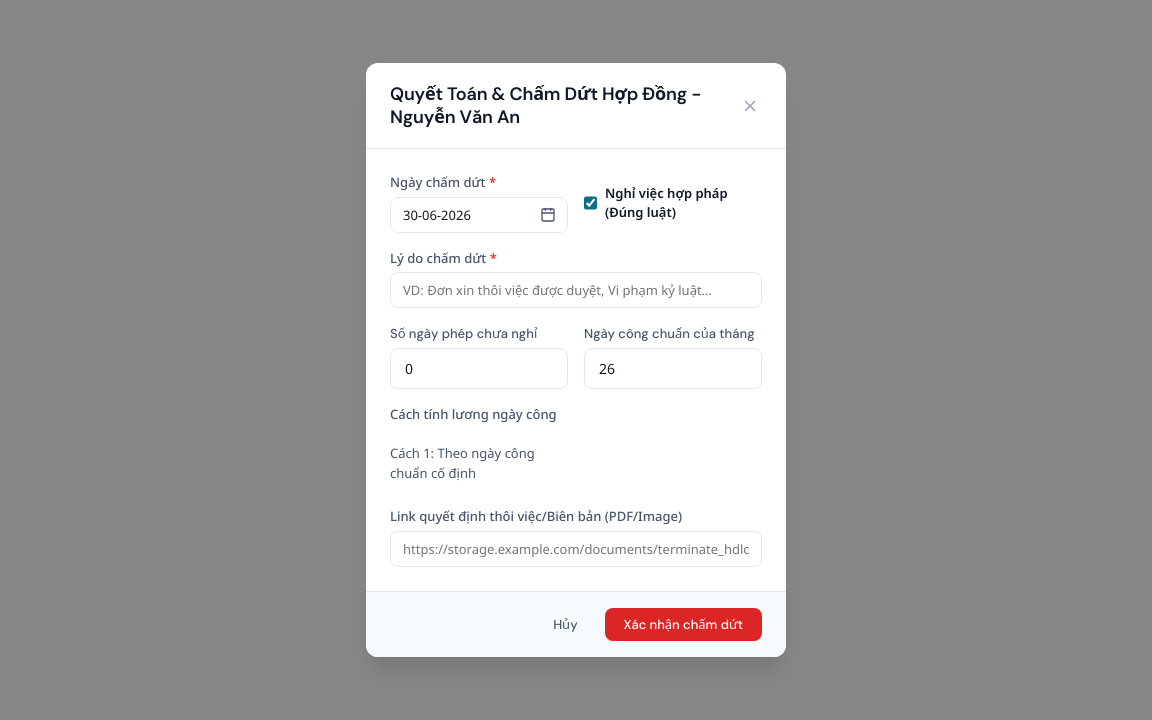
Scenario: TerminateContractModal › validates required fields
# Clear termination_date via hidden input
Clear the field named "termination_date": {"x": 479, "y": 203} [390,173,568,233]
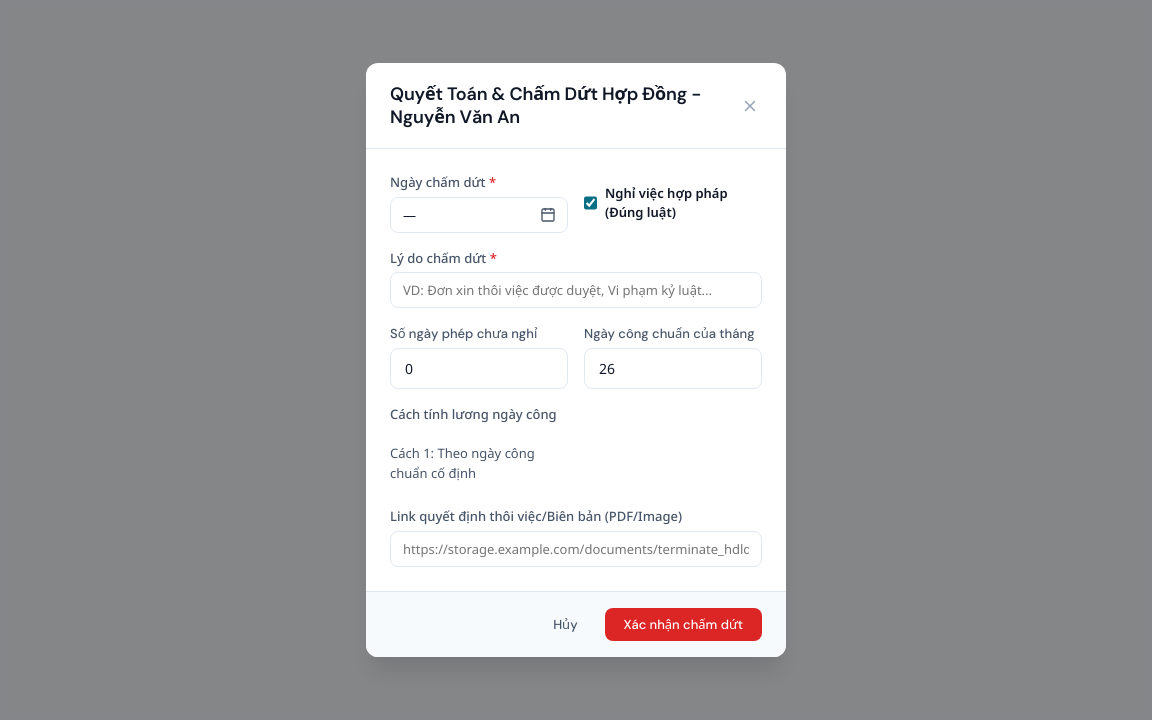
Click the button "Xác nhận chấm dứt": {"x": 683, "y": 624} [605,608,762,641]
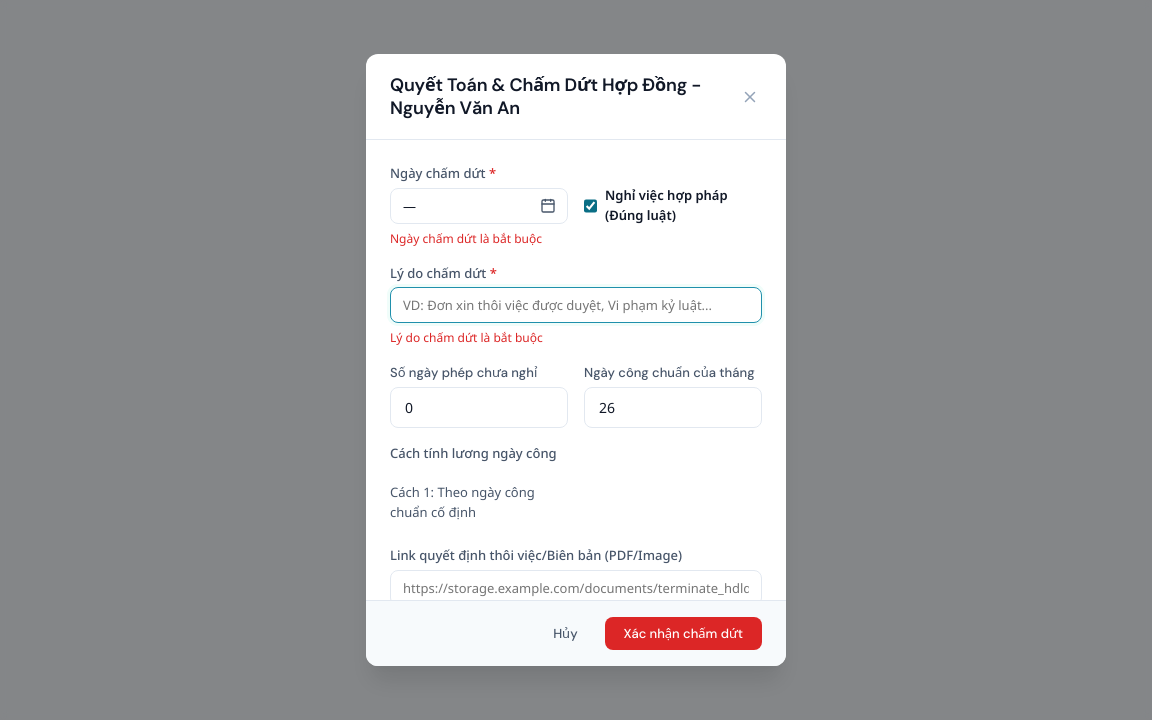
Check: the text "Ngày chấm dứt là bắt buộc" is shown, box [390,230,568,248]
Check: the text "Lý do chấm dứt là bắt buộc" is shown, box [390,329,543,346]
